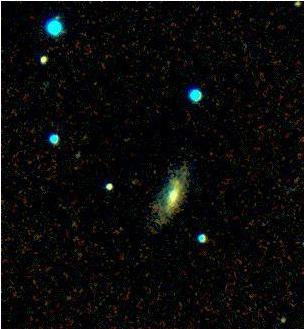star: (48, 1, 78, 31)
